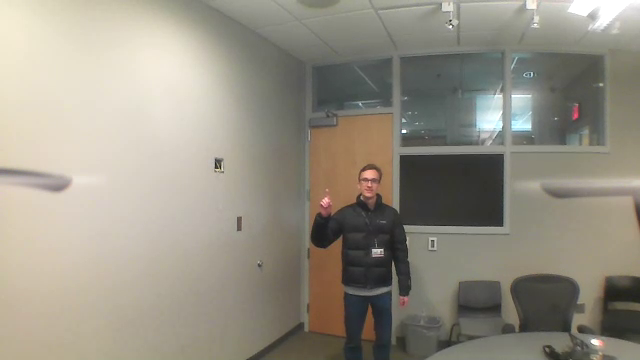up: (316, 186, 335, 215)
